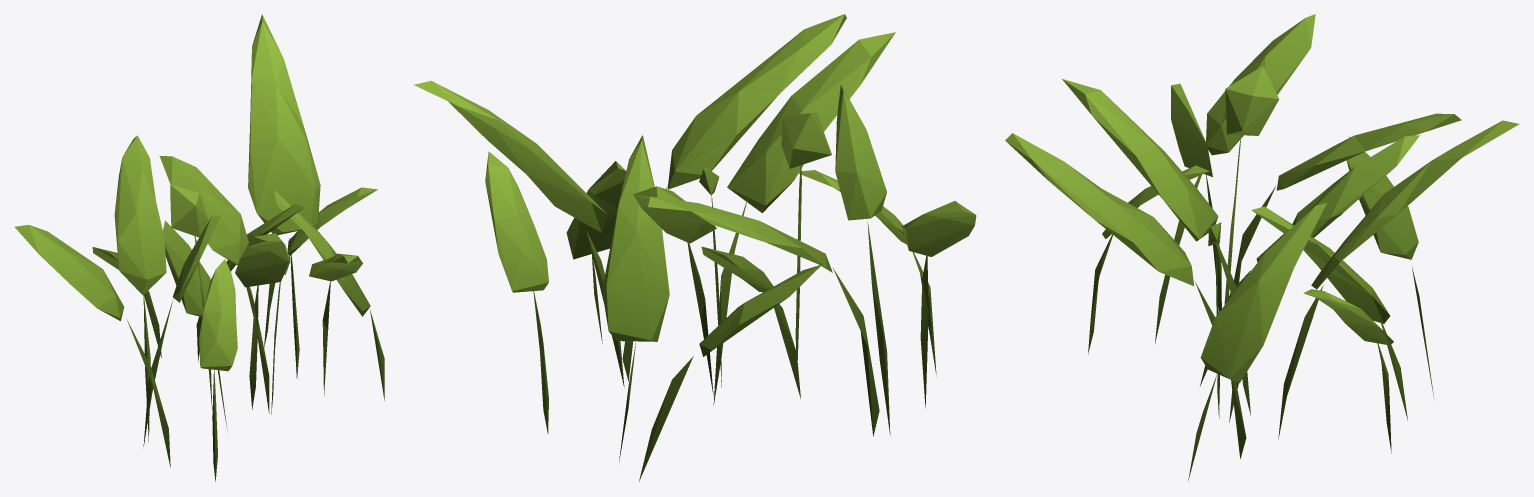
The model's file is ZLP_Grass_C_1.FBX.
3 views of the same model, side by side, from view 1: azimuth 30°, elevation 25°; view 2: azimuth 150°, elevation 25°; view 3: azimuth 270°, elevation 25° (orthographic). The views are drawn at different scales.
Visible parts, largest first — view 1: ZLP_Grass_C_1; view 2: ZLP_Grass_C_1; view 3: ZLP_Grass_C_1.
Part boxes in pixels (box(x1,y1,x2,y2)): ZLP_Grass_C_1: box(14, 14, 384, 481); ZLP_Grass_C_1: box(414, 14, 976, 481); ZLP_Grass_C_1: box(1005, 14, 1519, 481).
Size of the model in its own units: 205 by 159 by 202.
